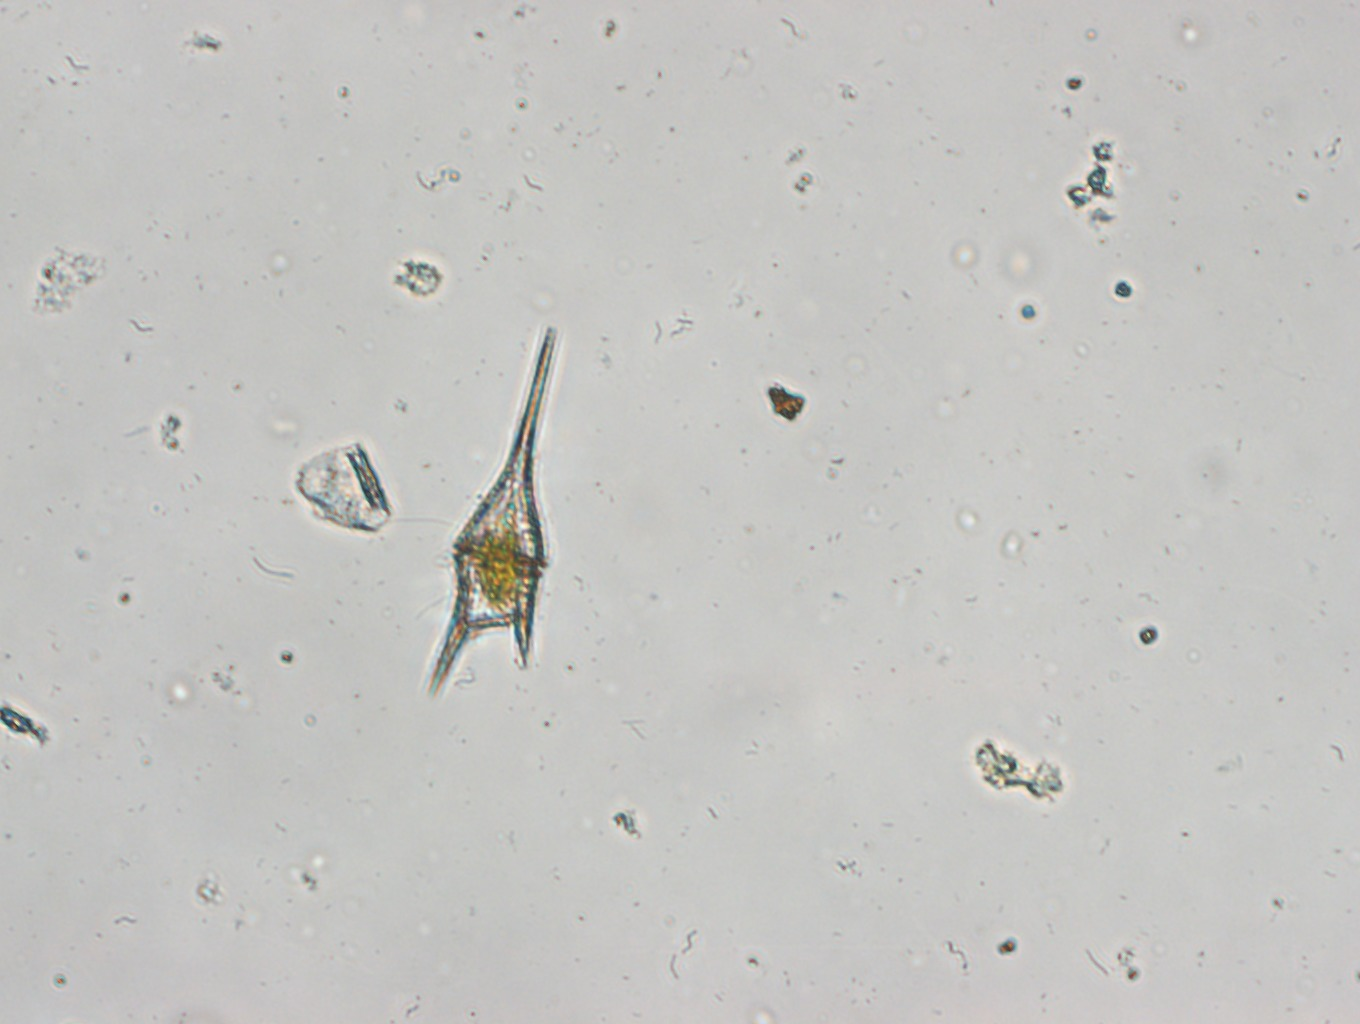ceratium furca: (423, 322, 562, 703)
